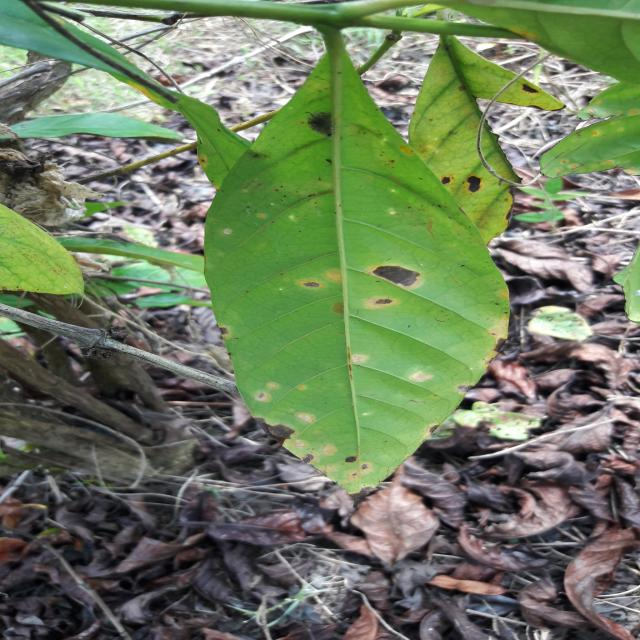Enfermedad-Roya: (204, 30, 511, 489)
